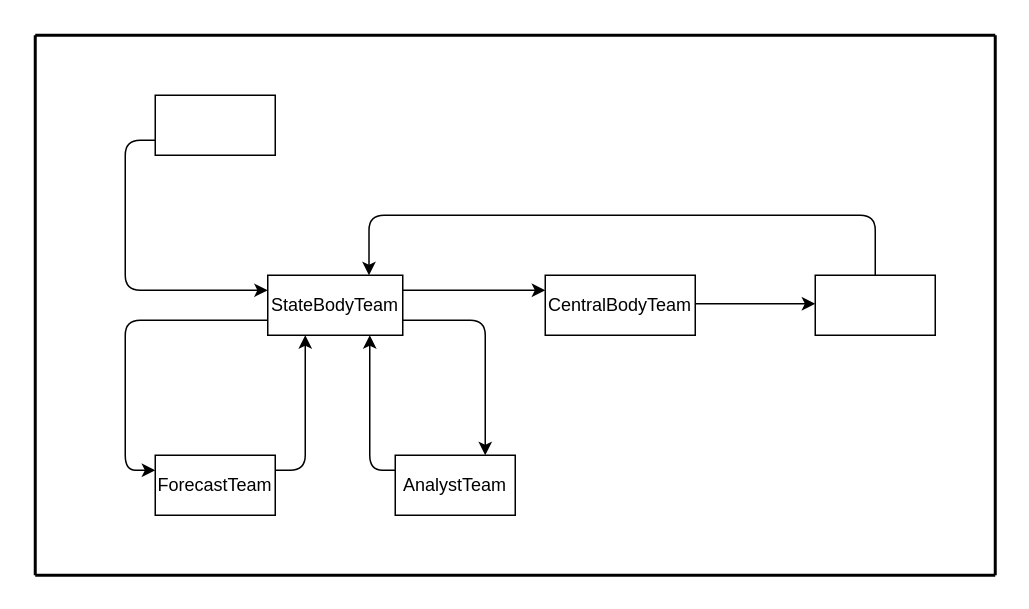
The diagram is 1029 pixels wide and 609 high, and some of its shapes have lost their labels. The centre of each missing label's shape, as x and y in pixels:
"Bank" goes at (x=874, y=304).
"Sensor" goes at (x=214, y=124).
